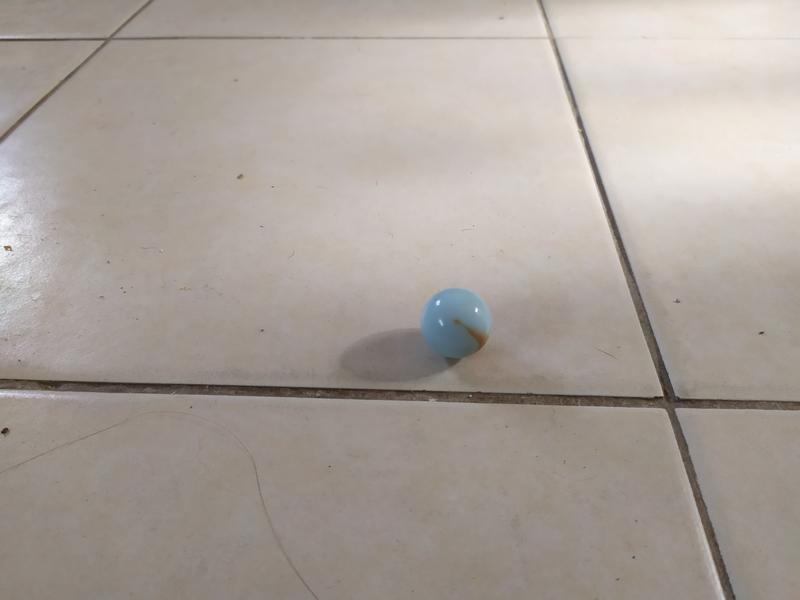Warning: (415, 284, 494, 362)
